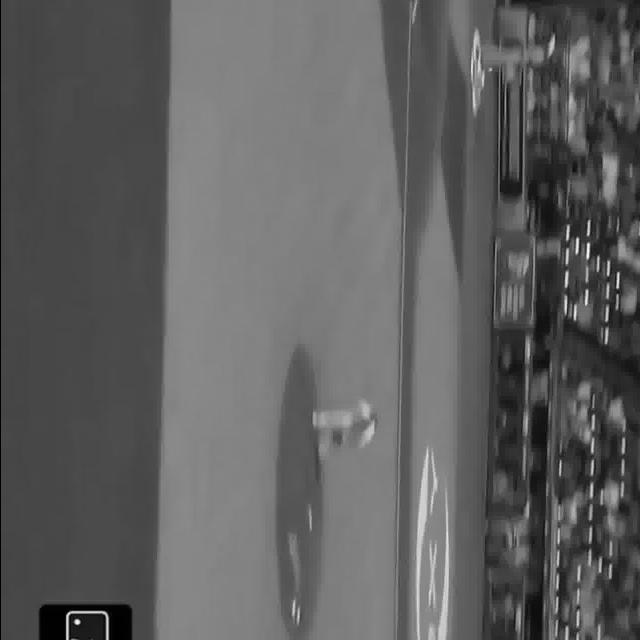baseball: (486, 67, 492, 71)
baseball_glove: (332, 434, 348, 446)
shoe: (310, 412, 316, 424)
